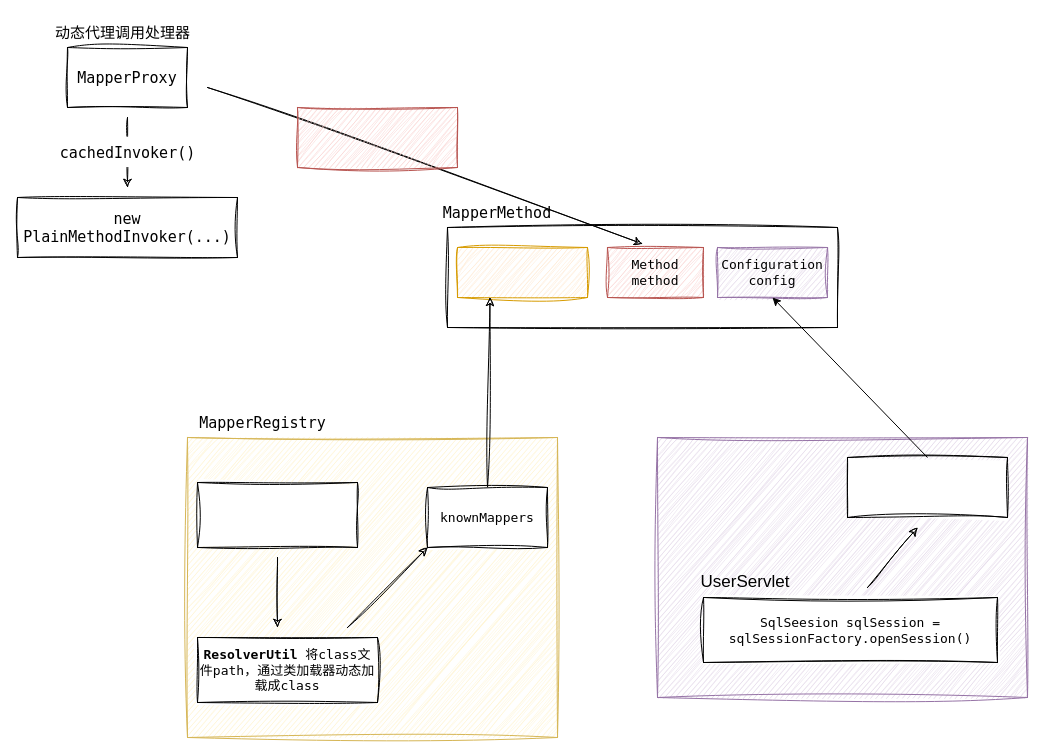
This 1045x755 diagram has some shape labels left out. The box of each missing label's shape, as (x1, y1, x2, y2) in pixels:
Class<?> mapperInterface: (456, 246, 588, 298)
sqlSession. getConfiguration(): (846, 456, 1008, 518)
VFS 读取mybatis-config.xml的mappers下的class文件（字符串）: (196, 482, 358, 548)
调用处理器 invoke()方法的method形参: (296, 106, 458, 168)
